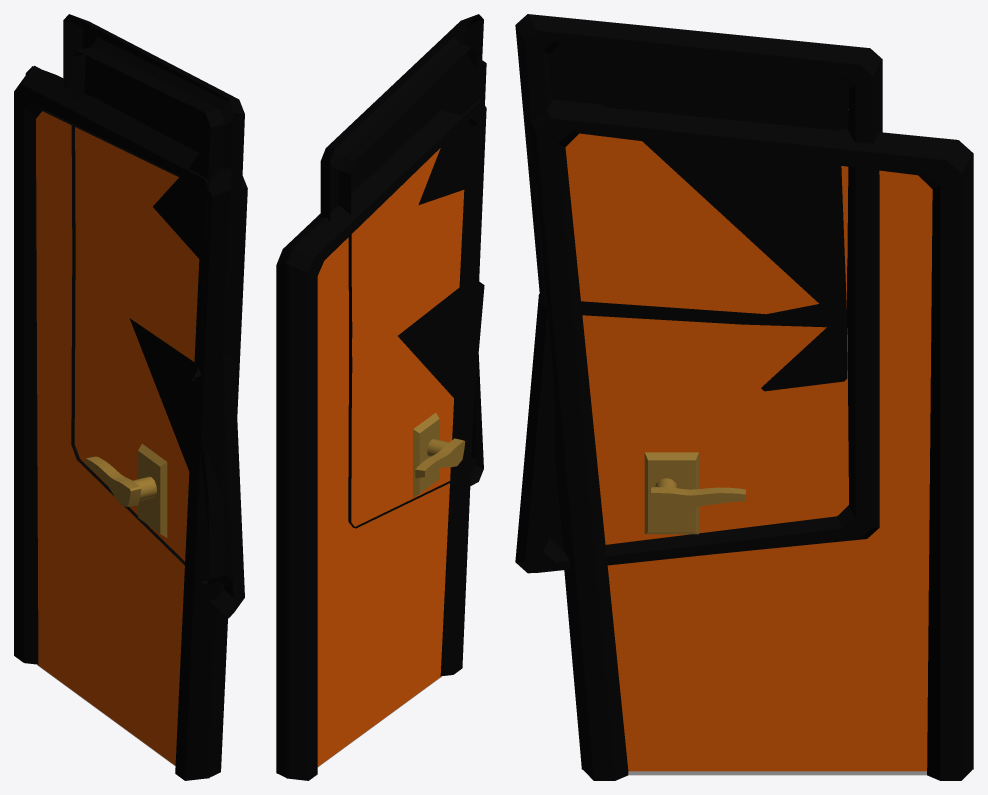
File: Other.fbx
3 views of the same model, side by side, from view 1: azimuth 30°, elevation 25°; view 2: azimuth 150°, elevation 25°; view 3: azimuth 270°, elevation 25° (orthographic). The views are drawn at different scales.
Visible parts, largest first — view 1: hospital_scene.005, hospital_scene.008; view 2: hospital_scene.005, hospital_scene.008; view 3: hospital_scene.005, hospital_scene.008.
Boxes of the visible parts, x1=… form: hospital_scene.005: x1=14, y1=65, x2=247, y2=780; hospital_scene.008: x1=63, y1=14, x2=244, y2=618; hospital_scene.005: x1=276, y1=100, x2=486, y2=780; hospital_scene.008: x1=320, y1=14, x2=486, y2=528; hospital_scene.005: x1=524, y1=99, x2=973, y2=780; hospital_scene.008: x1=515, y1=14, x2=882, y2=573.
Size of the model in its own units: 29.64 by 224 by 123.
